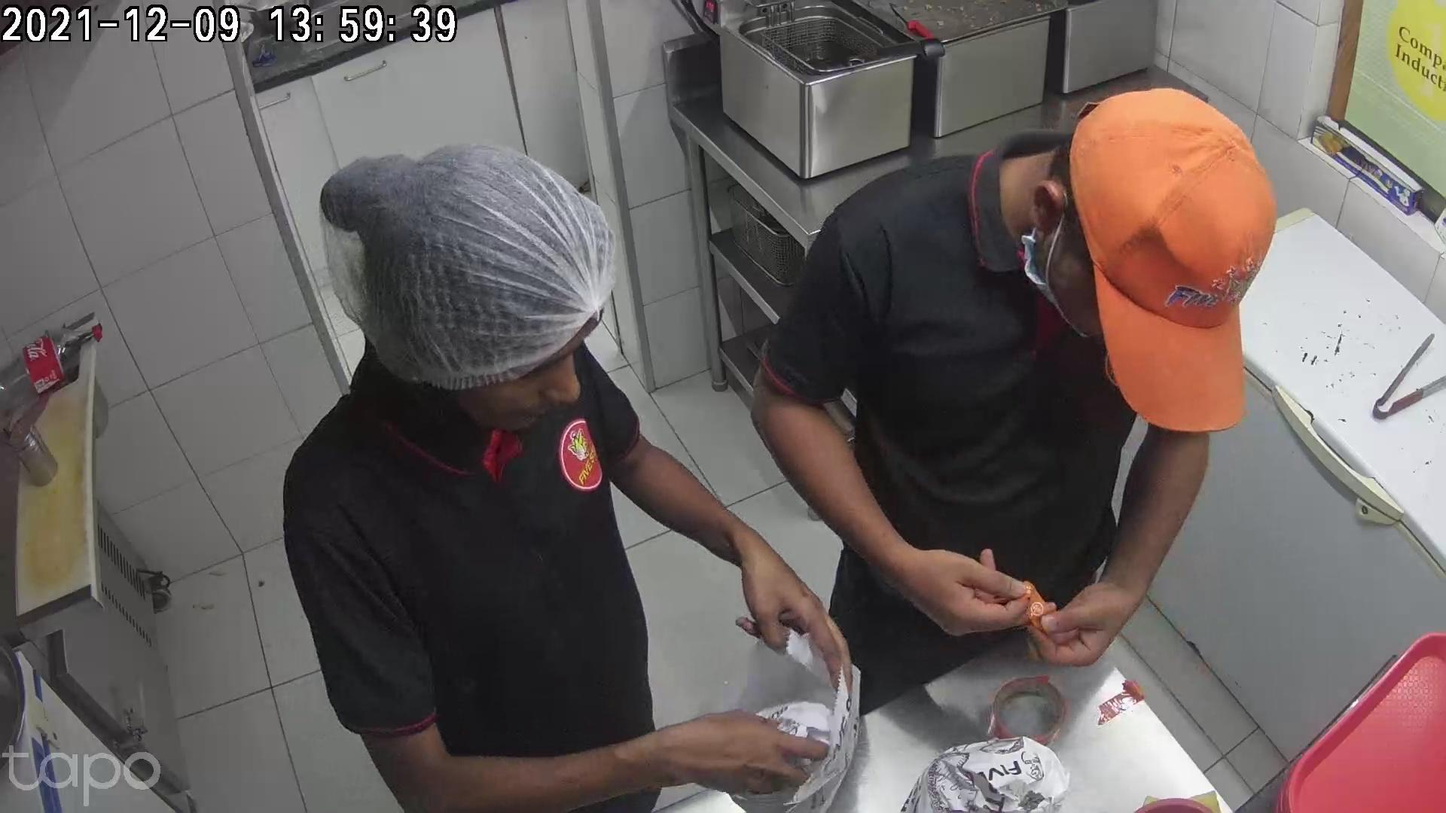no_gloves: (880, 548, 1033, 623), (1026, 563, 1137, 665)
